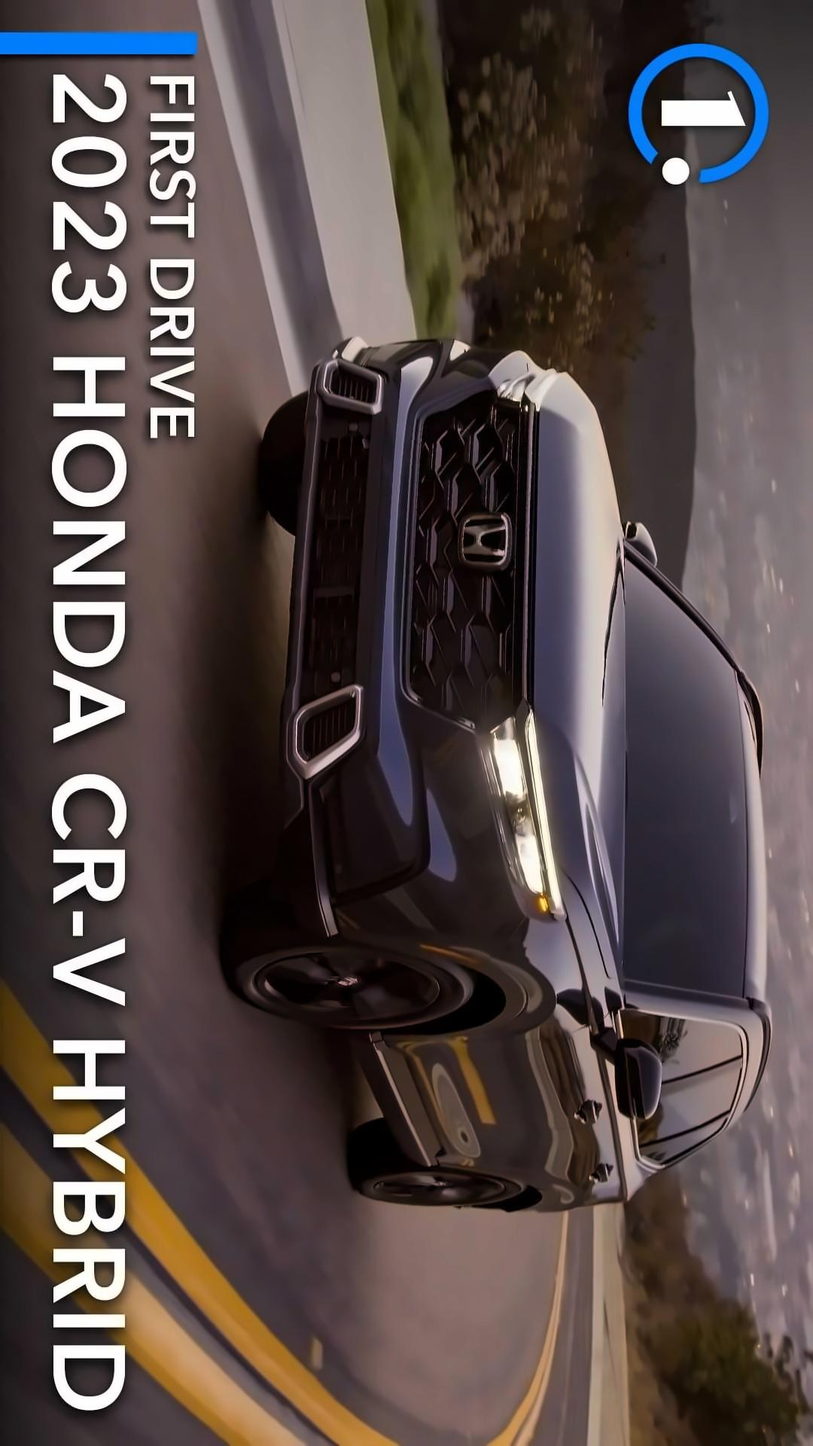Car hood: (529, 361, 630, 997)
Fender - -F-L-: (369, 856, 652, 1040)
Front bumper: (271, 320, 496, 956)
Headlight - -L-: (469, 703, 573, 937)
Headlight - -R-: (488, 350, 554, 432)
Passenger-s door - -F-L-: (371, 1022, 755, 1128)
Passenger-s door - -R-L-: (403, 1097, 736, 1203)
Side bumper - -L-: (330, 1017, 440, 1176)
Side mirror - -L-: (599, 1030, 674, 1143)
Side mirror - -R-: (616, 509, 674, 588)
